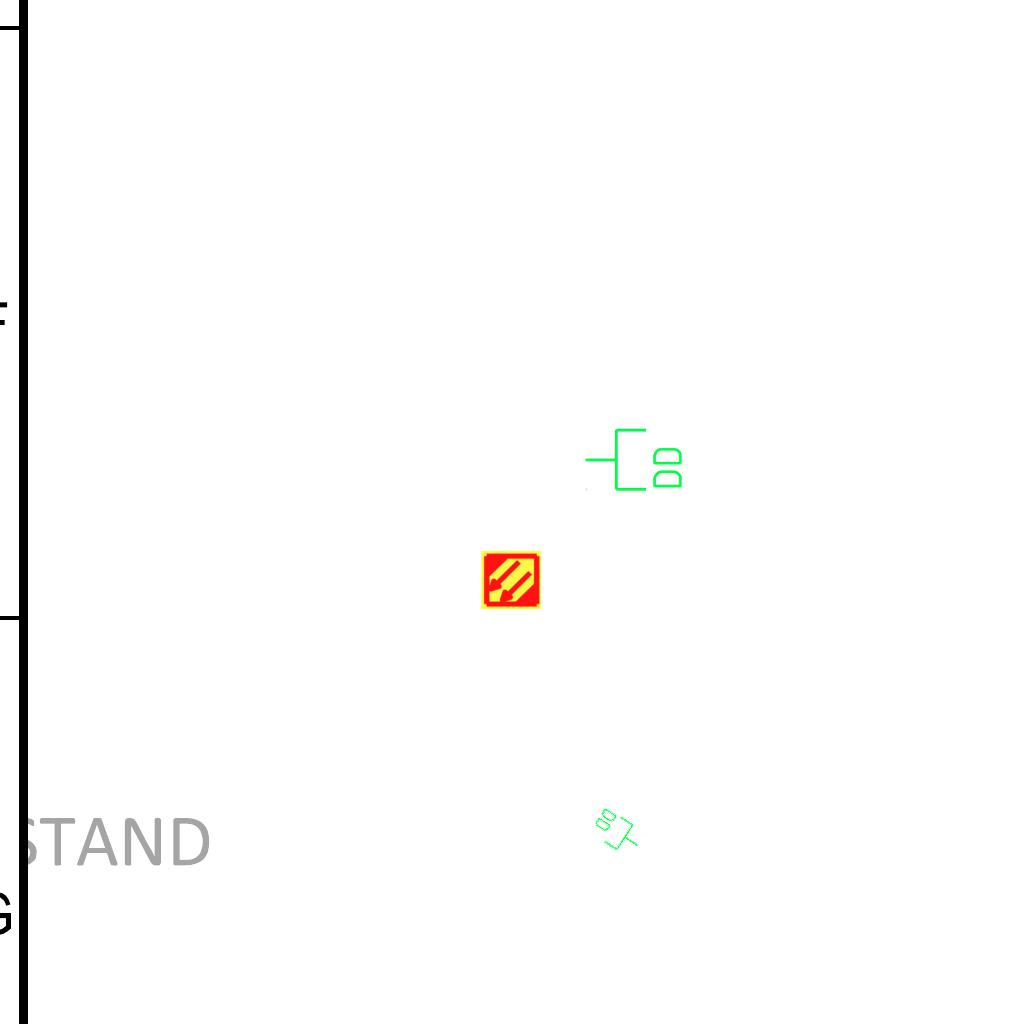ASR_Ansaugrauchmelder: (480, 549, 542, 611)
Datenanschluss_zweifach: (583, 426, 686, 495), (586, 803, 649, 861)
